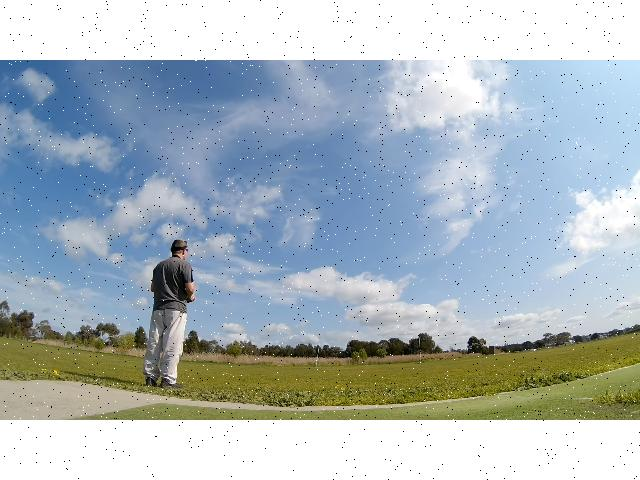Anti-Drone: (362, 286, 390, 308)
